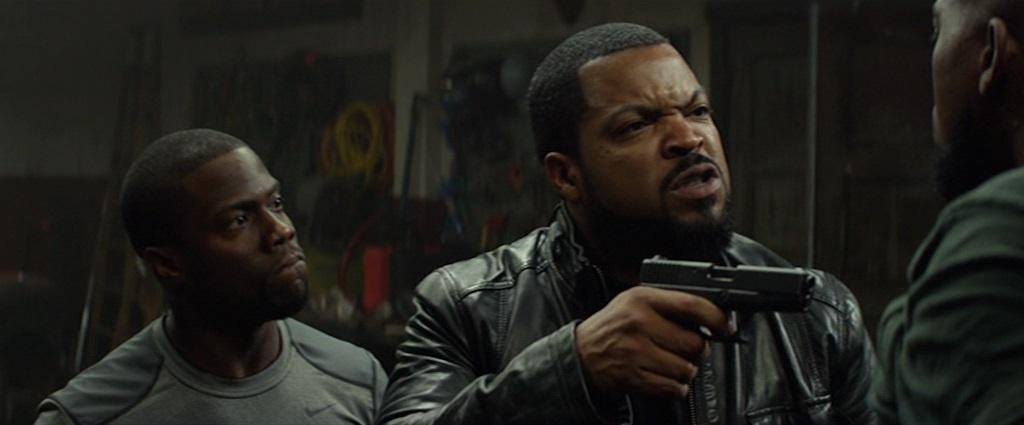gun: (626, 247, 823, 398)
